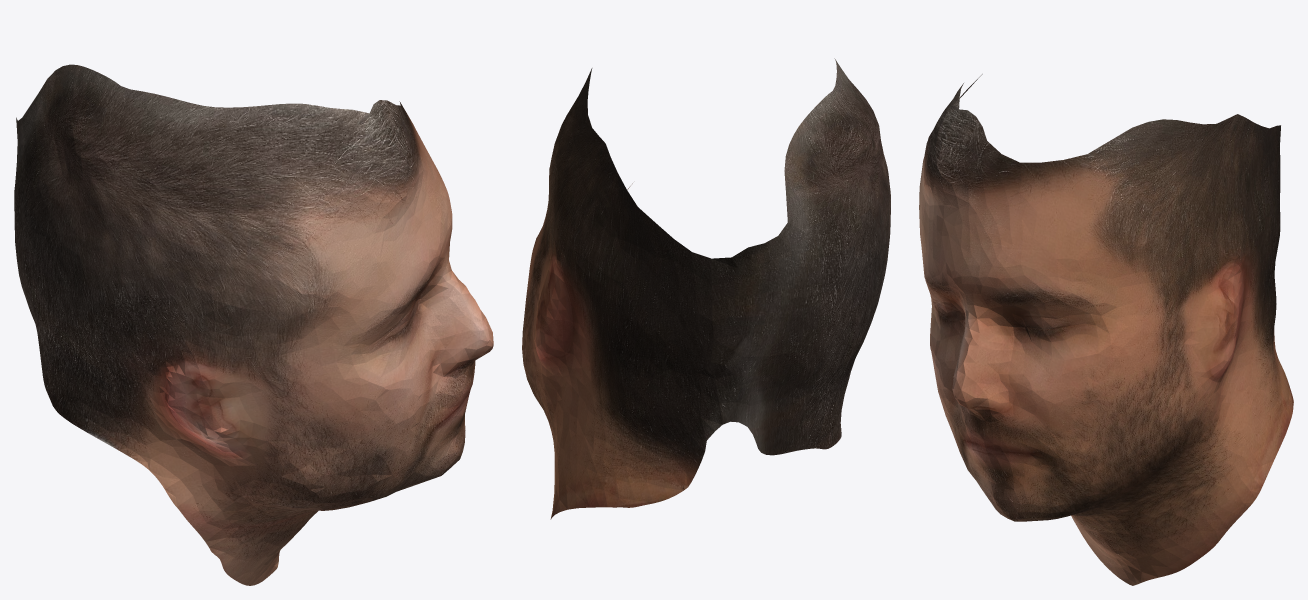
The model's file is BUSTO_6.glb.
3 renders of one model, left to right at view 1: azimuth 30°, elevation 25°; view 2: azimuth 150°, elevation 25°; view 3: azimuth 270°, elevation 25°, orthographic. The views are drawn at different scales.
Parts seen in each view (by area): view 1: Mesh_0.010; view 2: Mesh_0.010; view 3: Mesh_0.010.
Part boxes in pixels (x1,y1,x2,y2): Mesh_0.010: (14,64,493,585); Mesh_0.010: (522,58,890,519); Mesh_0.010: (919,74,1293,585).
Size of the model in its own units: 3.16 by 4.38 by 3.01.
1 material, 1 textured.
